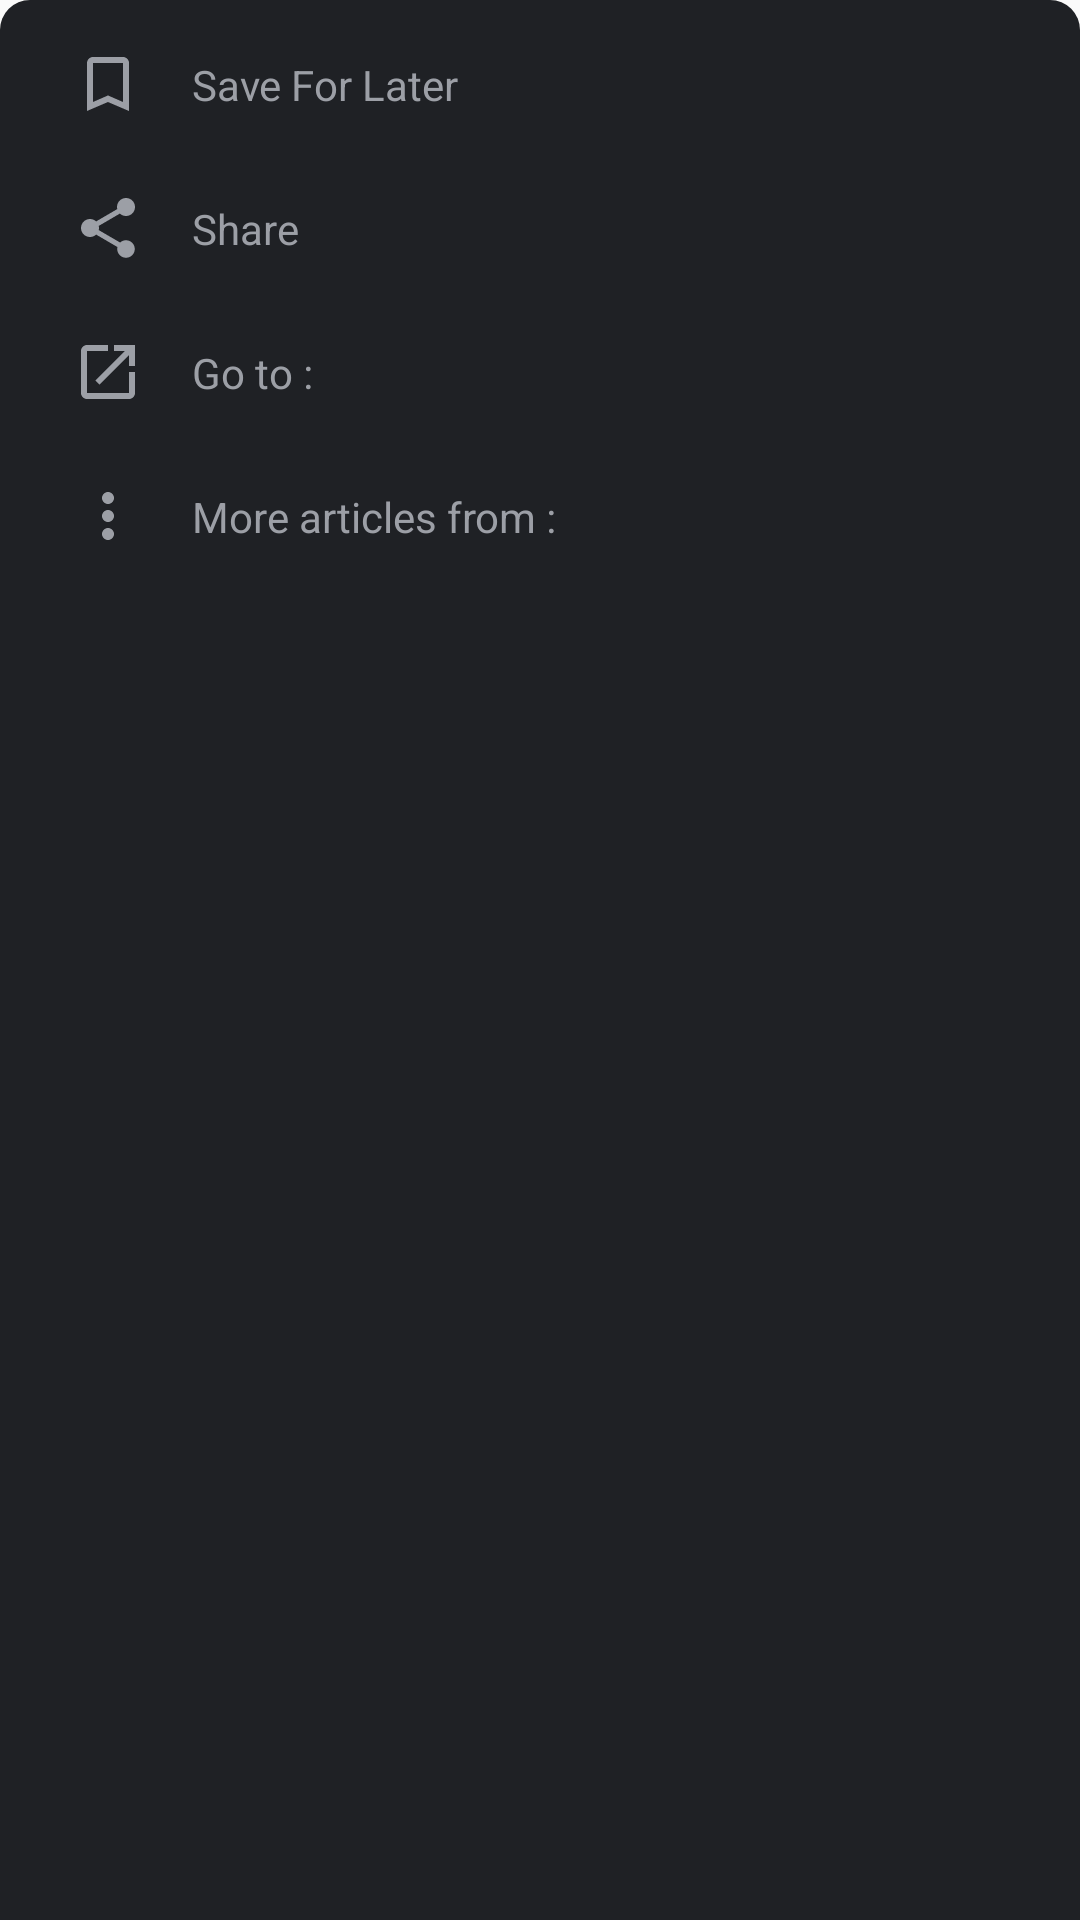

Point at icon controls on the screen. Image size 1080x1920, points as (x=x, y=y).
open in: (x=108, y=372)
three dot: (x=108, y=516)
